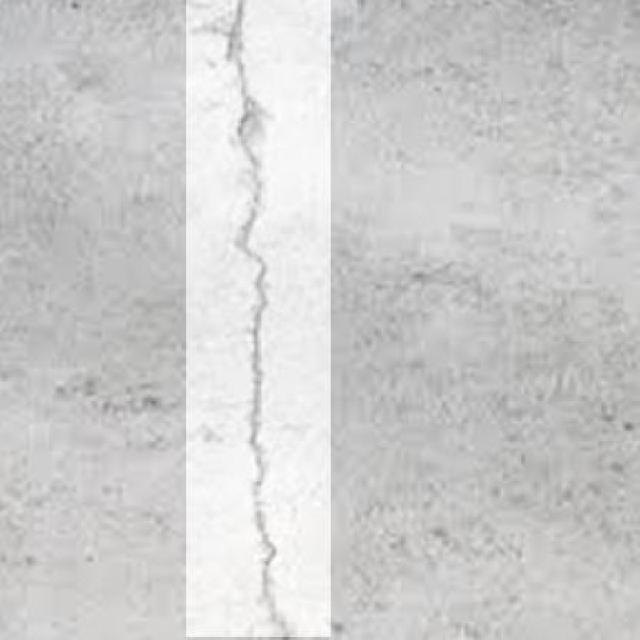Crack: (209, 0, 298, 640)
